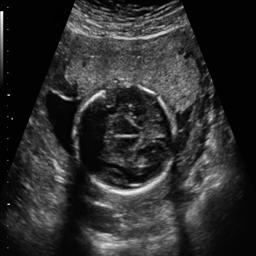normal: (66, 82, 179, 196)
